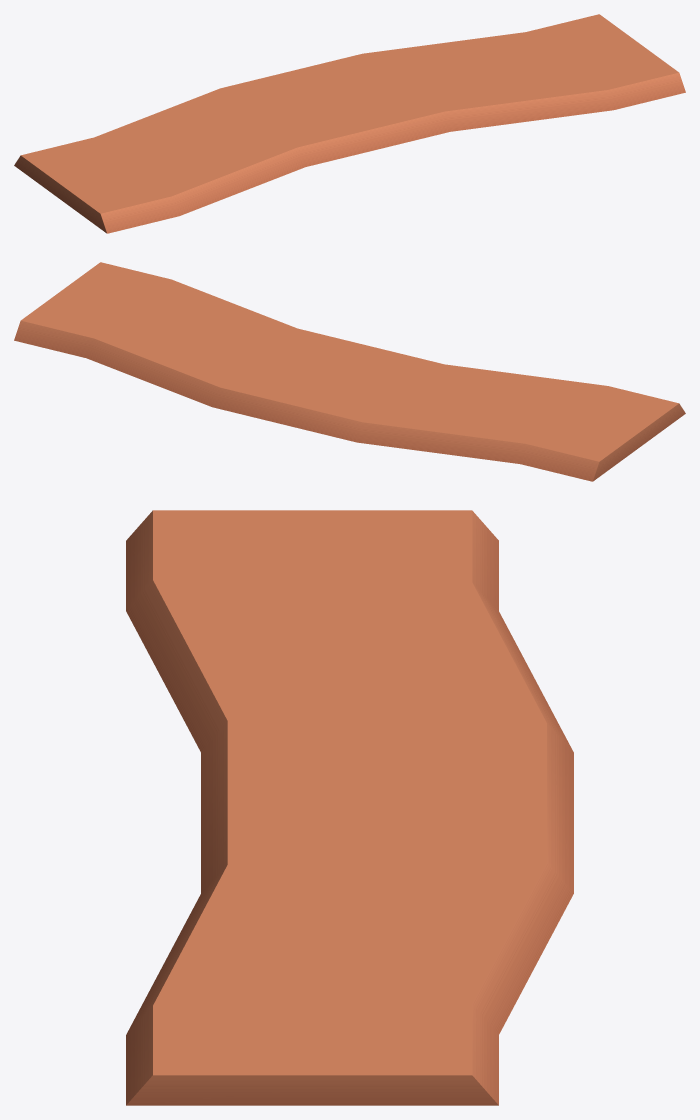
The model's file is path-straight.fbx.
3 views of the same model, one above another, from view 1: azimuth 30°, elevation 25°; view 2: azimuth 150°, elevation 25°; view 3: azimuth 270°, elevation 25° (orthographic). The views are drawn at different scales.
Visible parts, largest first — view 1: path_straight; view 2: path_straight; view 3: path_straight.
Boxes of the visible parts, x1=… form: path_straight: x1=14, y1=14, x2=685, y2=233; path_straight: x1=14, y1=262, x2=685, y2=481; path_straight: x1=126, y1=510, x2=573, y2=1105.
Bounding box in the file's own units: 100 × 2.5 × 33.5.
Materials: 1 (1 with a texture image).
